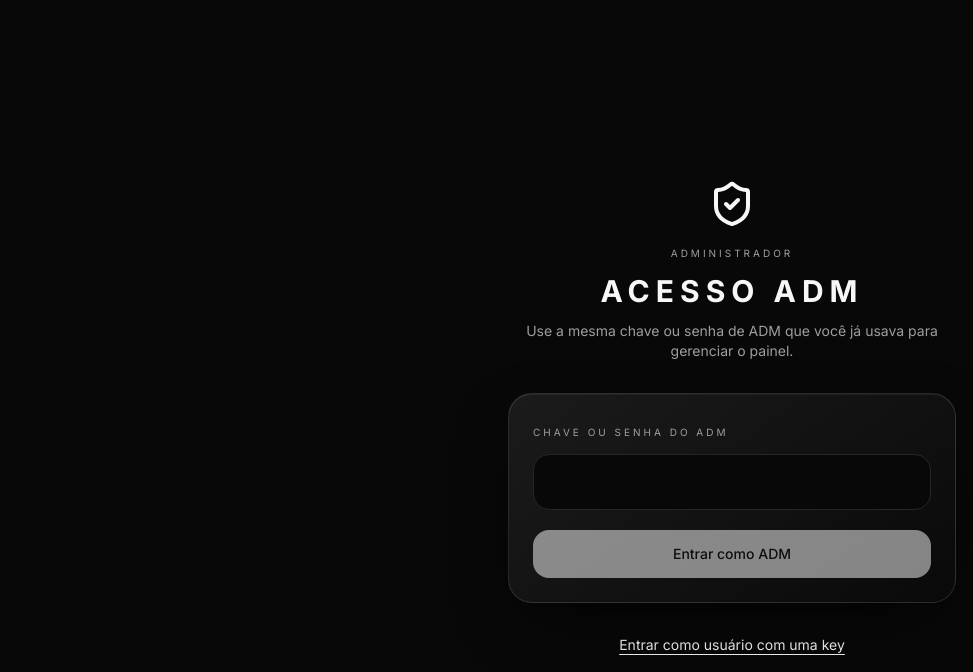
acessos de usuário e ADM › após entrar, retorna à conversa indicada pela notificação
Type "MinhaSenhaAdm" into the password field labelled "Chave ou senha do ADM" at (732, 482), box [533,454,931,510]
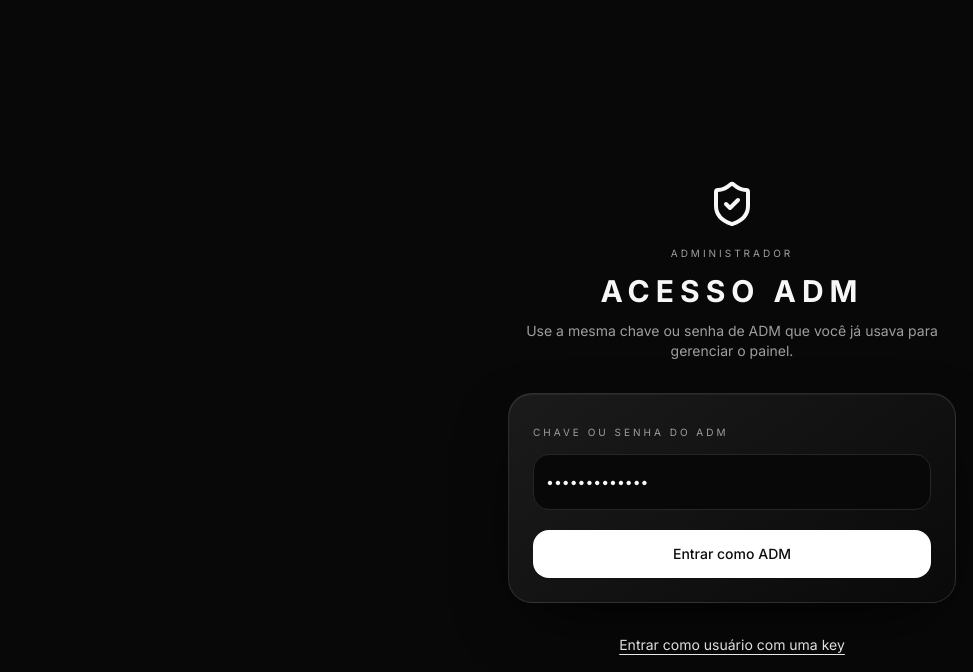
Submit the form named "Login de administrador", box [508,392,956,602]
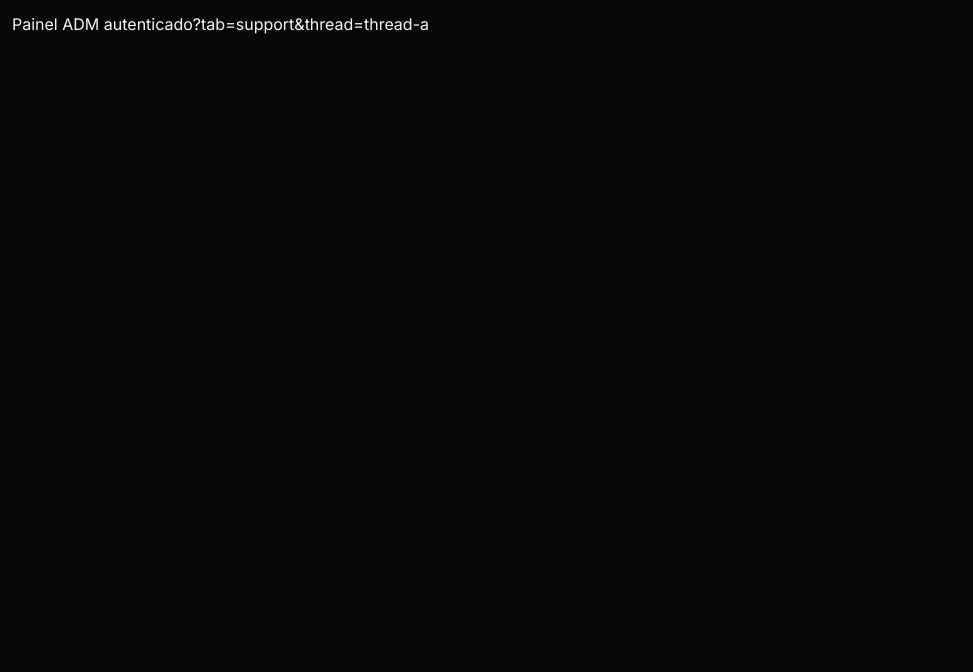
Expected: the text with test id "admin-destination" shows "?tab=support&thread=thread-a", [193,14,429,34]
